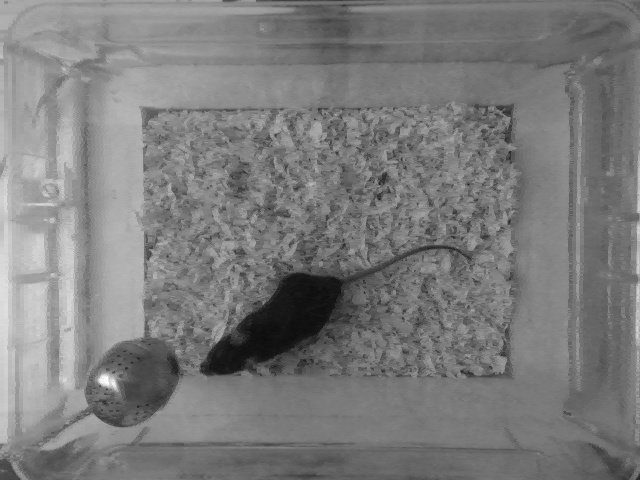mice: (191, 241, 473, 377)
